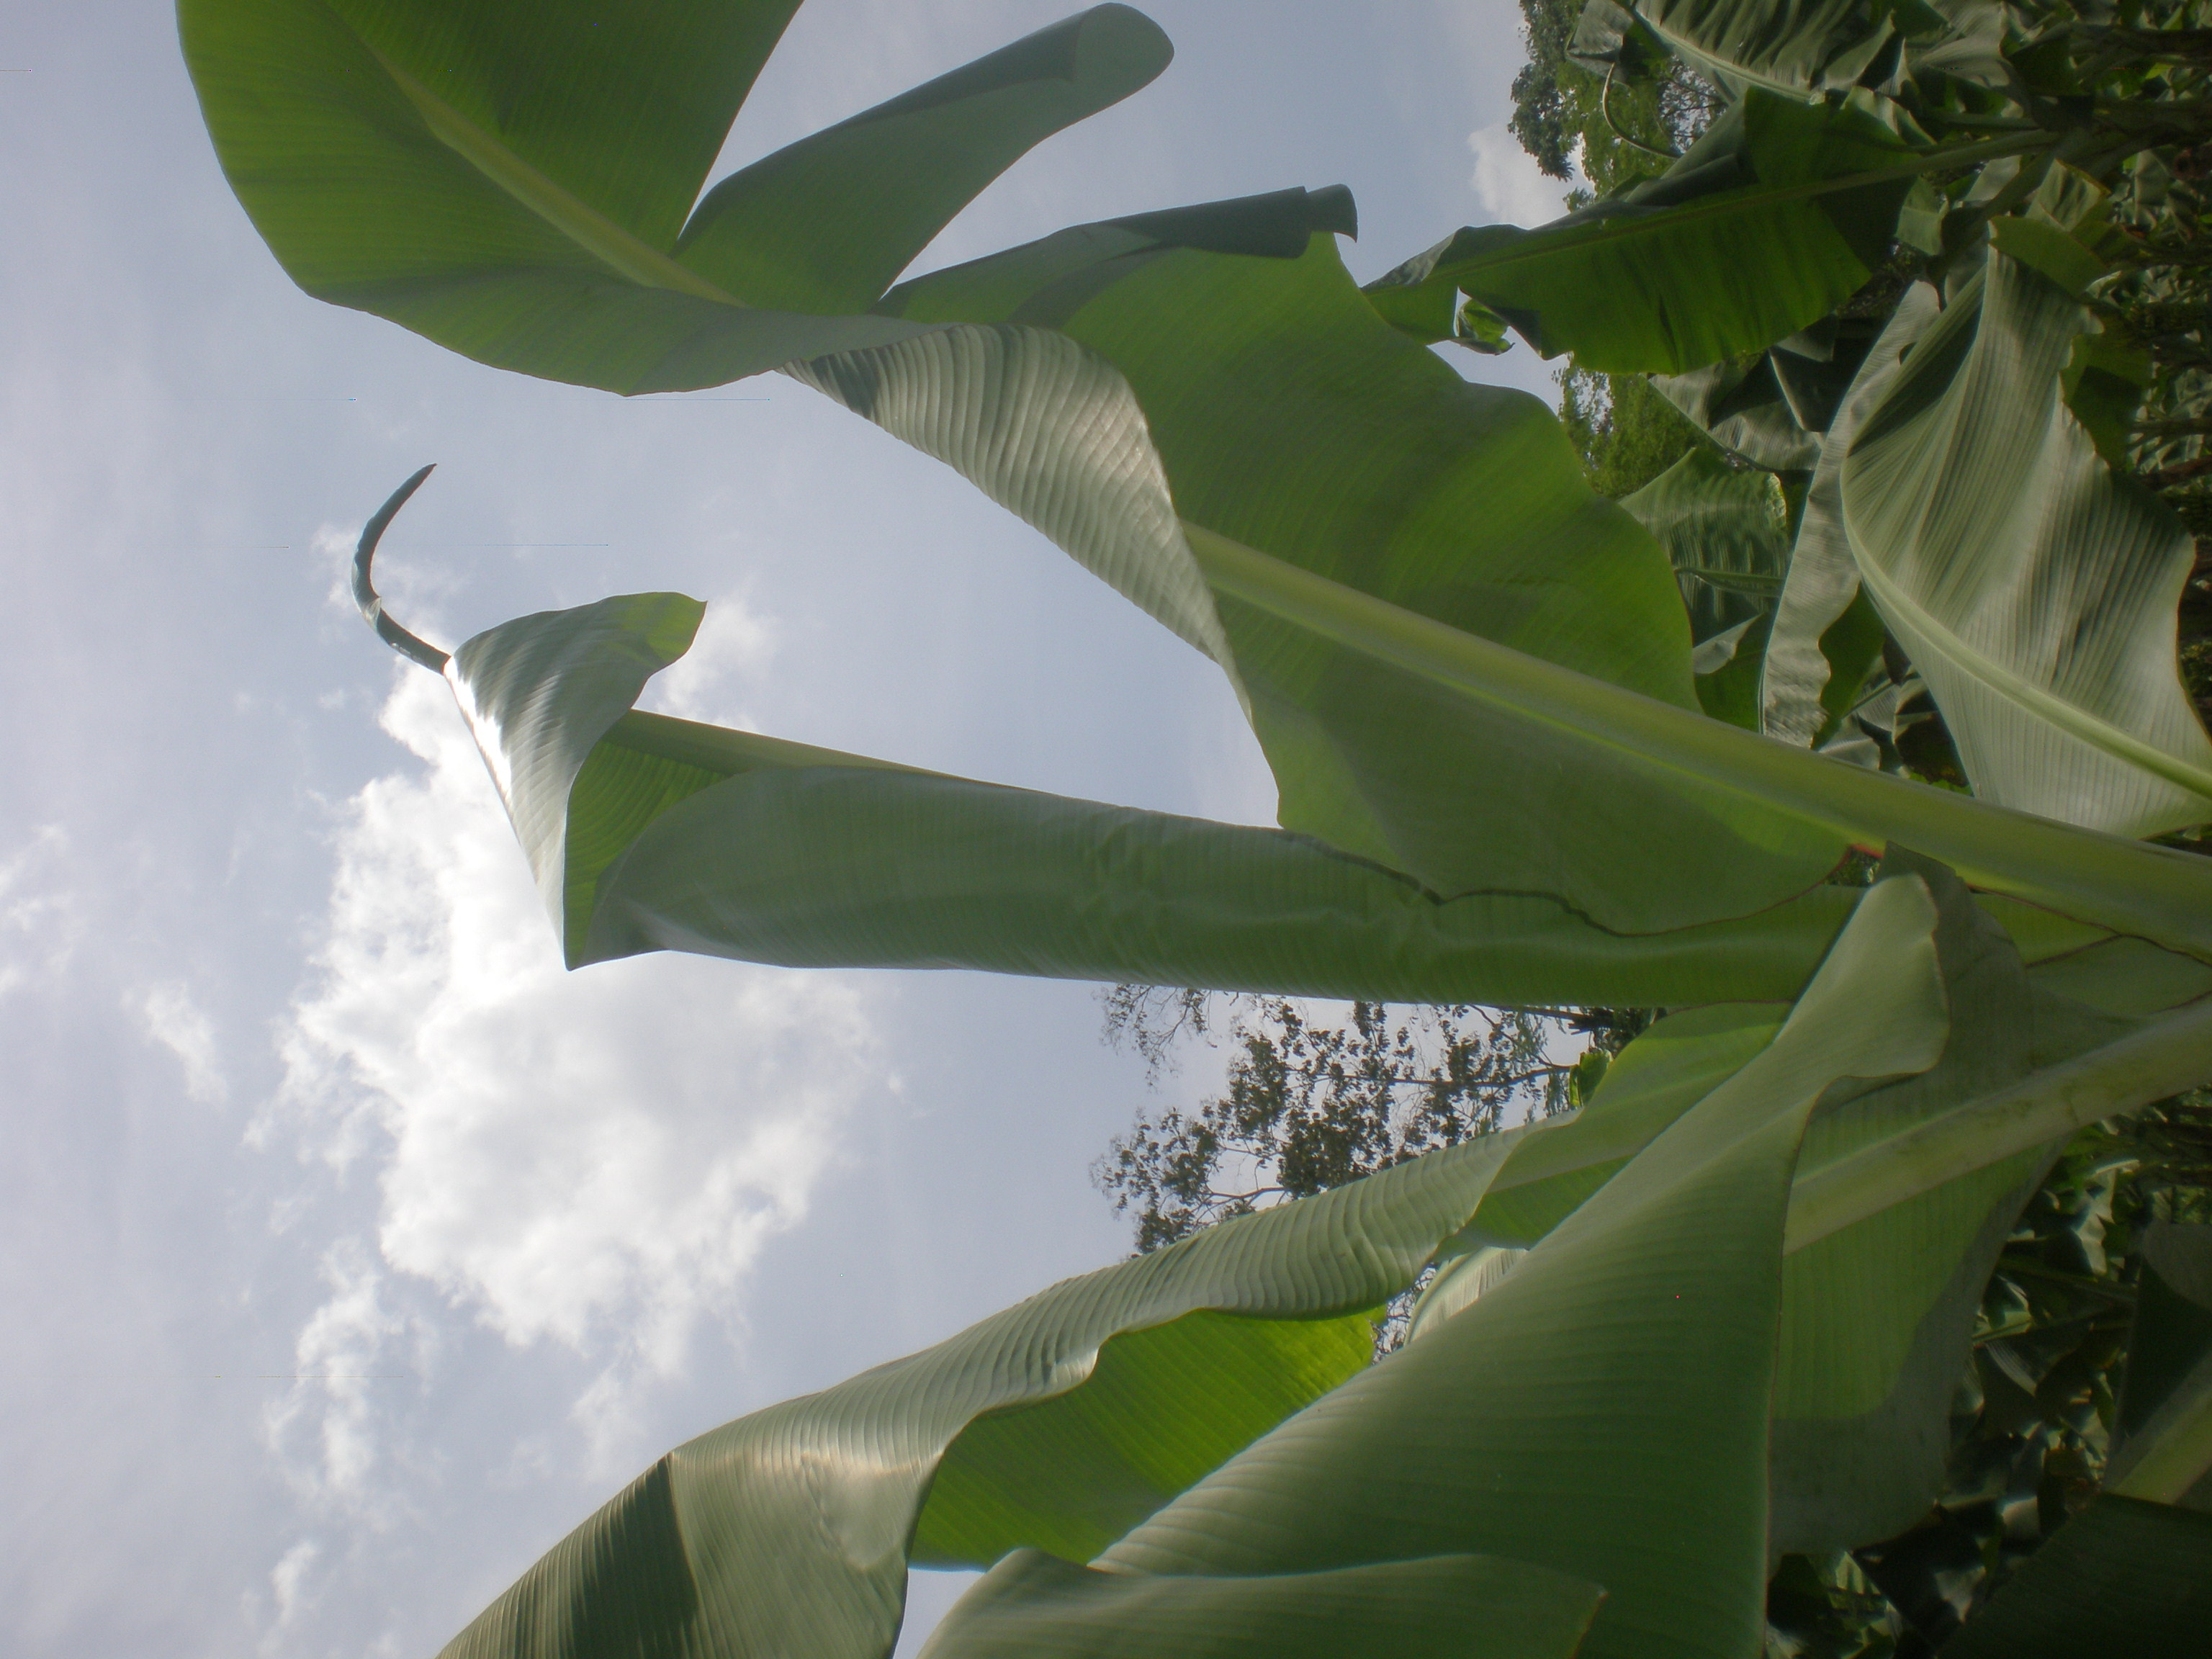candleleafs: (355, 464, 446, 673)
